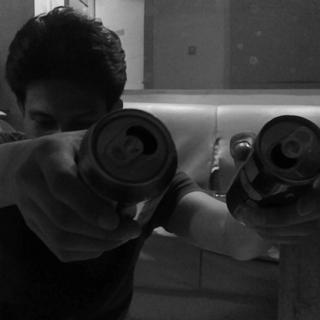alumunium_can: (76, 104, 175, 232), (227, 113, 320, 225)
